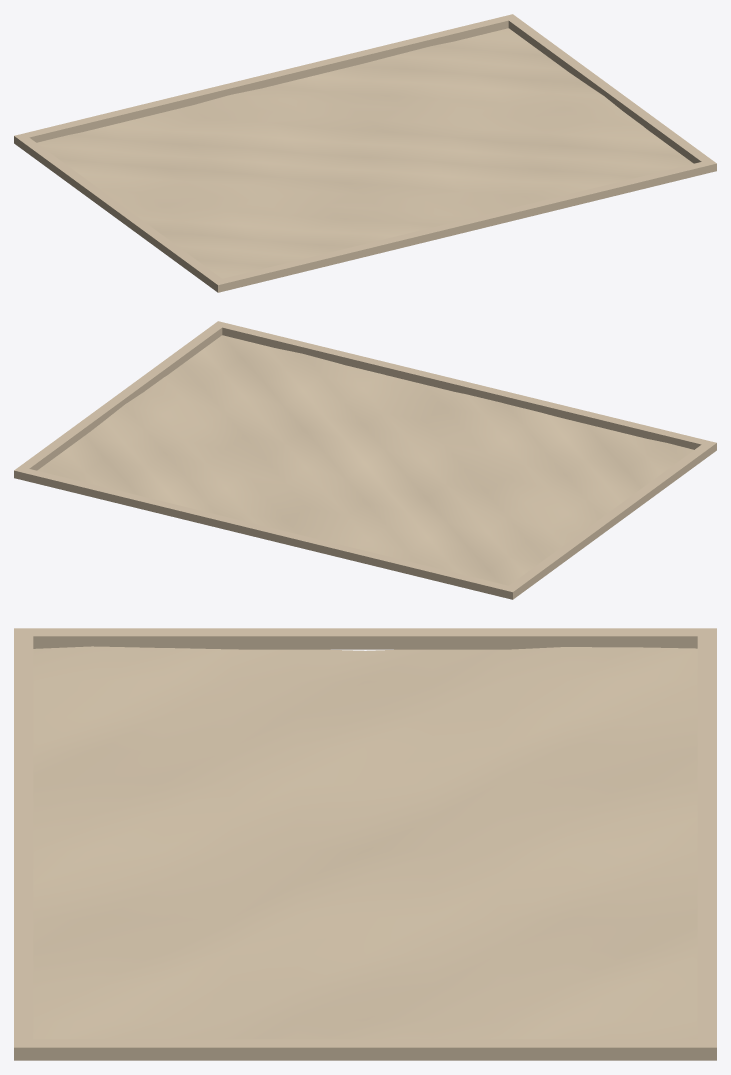
File: yard_floor.gltf
The picture shows the model from 3 angles, top to bottom: view 1: azimuth 30°, elevation 25°; view 2: azimuth 150°, elevation 25°; view 3: azimuth 270°, elevation 25°; orthographic projection. The views are drawn at different scales.
Parts seen in each view (by area): view 1: Body, yard_curb_s, yard_curb_n, yard_curb_w, yard_curb_e; view 2: Body, yard_curb_n, yard_curb_s, yard_curb_w, yard_curb_e; view 3: Body, yard_curb_e, yard_curb_w, yard_curb_n, yard_curb_s.
Boxes of the visible parts, x1,y1,x2,y2 form: Body: [36, 28, 693, 278]; yard_curb_s: [215, 160, 714, 291]; yard_curb_n: [18, 14, 515, 142]; yard_curb_w: [14, 133, 227, 292]; yard_curb_e: [504, 14, 716, 171]; Body: [37, 335, 693, 585]; yard_curb_n: [16, 467, 515, 598]; yard_curb_s: [215, 321, 712, 449]; yard_curb_w: [503, 440, 716, 599]; yard_curb_e: [14, 321, 226, 479]; Body: [33, 646, 697, 1039]; yard_curb_e: [14, 1039, 716, 1060]; yard_curb_w: [14, 628, 716, 649]; yard_curb_n: [697, 630, 716, 1045]; yard_curb_s: [14, 630, 33, 1045].
Size of the model in its own units: 20.6 by 0.3761 by 14.6.
